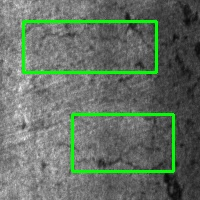crazing: (23, 21, 156, 72), (72, 114, 173, 171)
